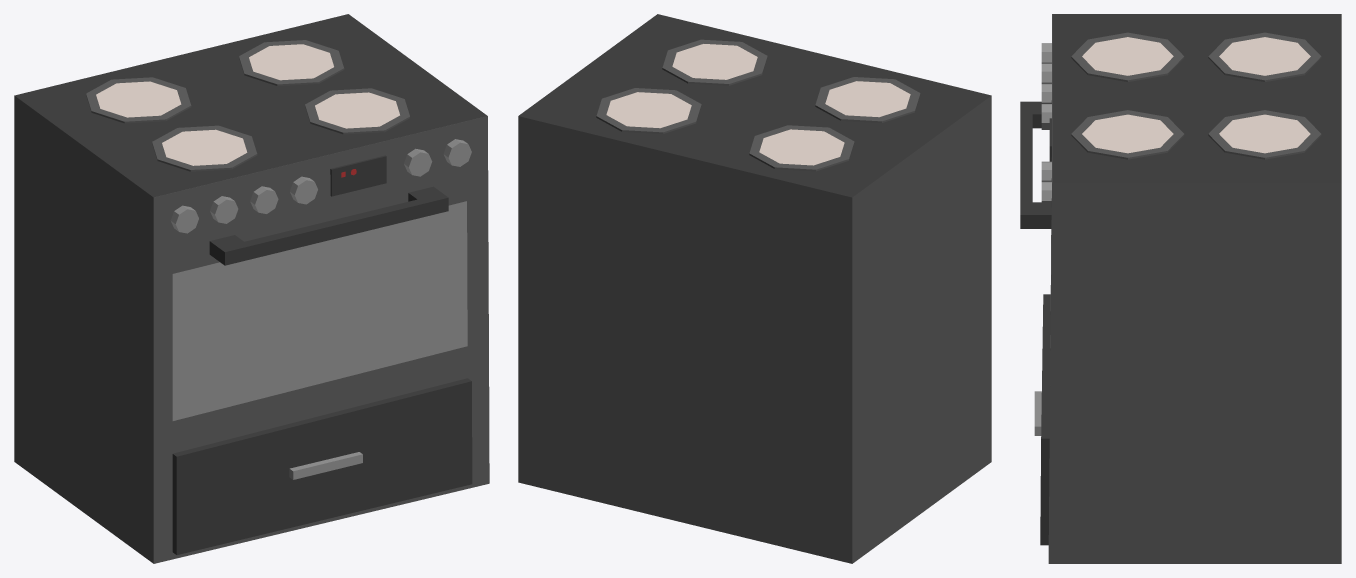
File: Stove_1.fbx
3 renders of one model, left to right at view 1: azimuth 30°, elevation 25°; view 2: azimuth 150°, elevation 25°; view 3: azimuth 270°, elevation 25°, orthographic. The views are drawn at different scales.
Parts seen in each view (by area): view 1: Stove_1; view 2: Stove_1; view 3: Stove_1.
Part boxes in pixels (x1,y1,x2,y2): Stove_1: (14,14,489,563); Stove_1: (518,14,991,563); Stove_1: (1020,14,1341,563).
Bounding box in the file's own units: 122 × 97.98 × 129.
